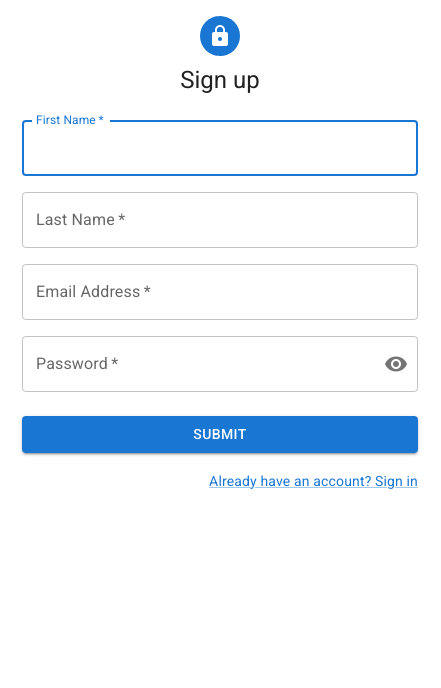
Test case: Register Validate Form › show all errors
What coordinates should you click on to do the following:
click the submit button
I would click on:
 (220, 435)
Its box is [22,416,418,453].
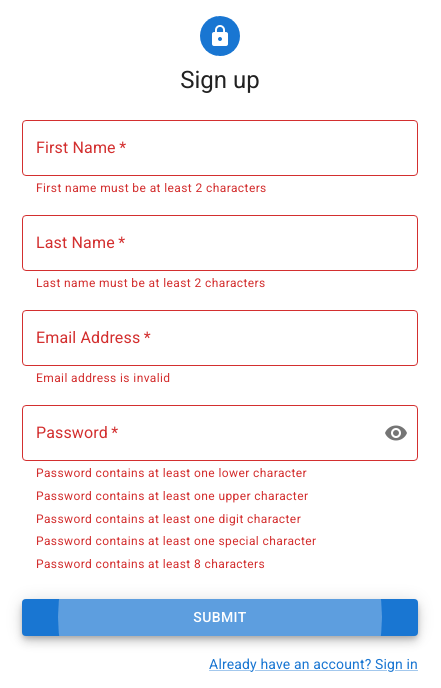
Expected: the text with id "firstName-helper-text" reads "First name must be at least 2 characters", [36,181,267,195]
Expected: the text with id "lastName-helper-text" reads "Last name must be at least 2 characters", [36,276,266,290]
Expected: the text "Email address is invalid" is shown, [36,371,170,385]
